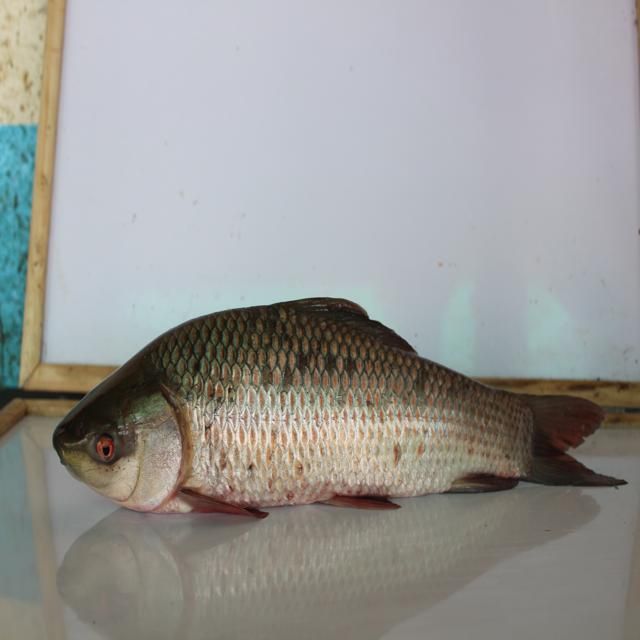Rohu: (47, 296, 620, 533)
